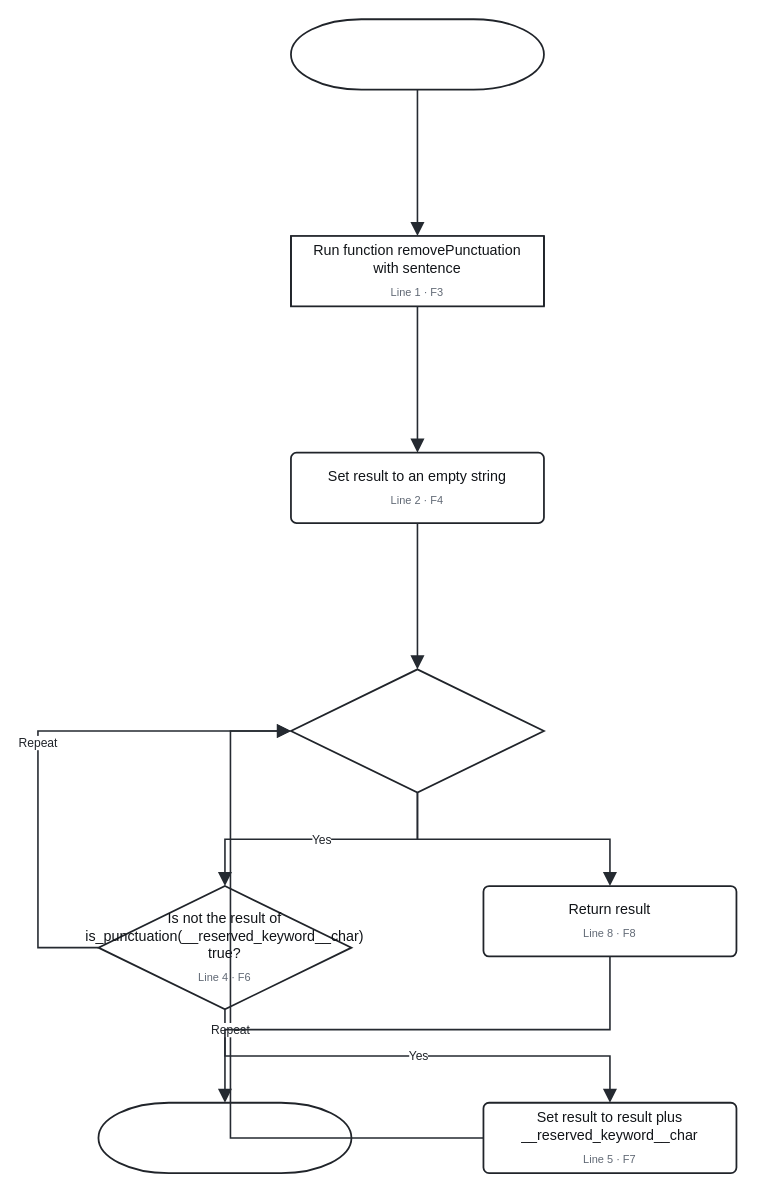
Some shapes in this 757 by 1194 pixel diagram are drawn without their labels. Each missing label, with the centre of its shape:
"End Line 1 · F2" goes at pixel 224 1137.
"For each __reserved_keyword__char in sentence Line 3 · F5" goes at pixel 417 730.
"Start Line 1 · F1" goes at pixel 417 54.
